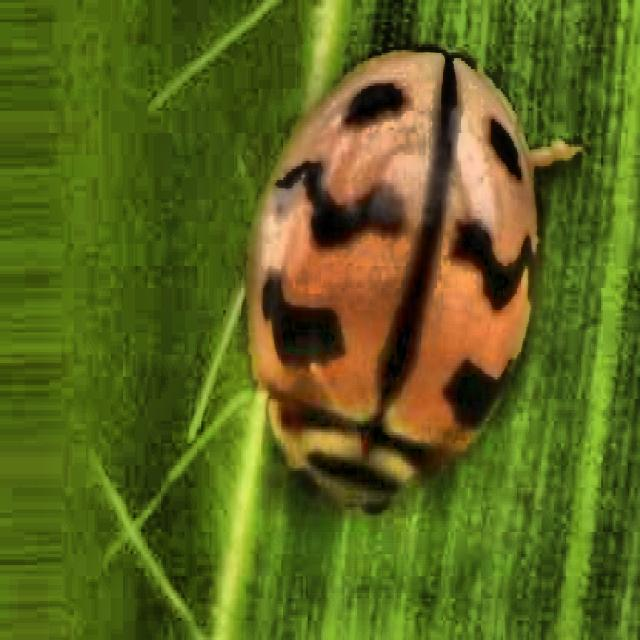Asian-Lady-beetle: (207, 3, 575, 589)
